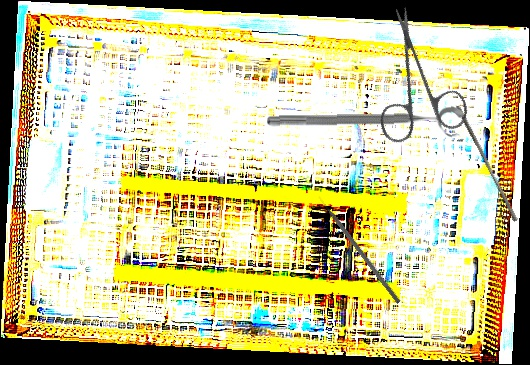Fixation Ring: (266, 106, 465, 142)
Hook Surgical: (317, 194, 402, 304)
Iris Scissors: (334, 3, 500, 169)
Pusher: (451, 104, 522, 223)
